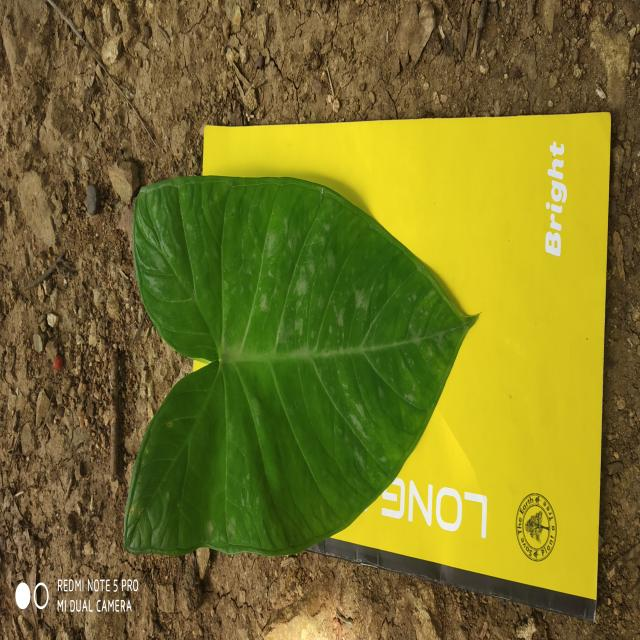defectedtaro: (174, 180, 416, 364)
taro: (124, 176, 476, 556)
